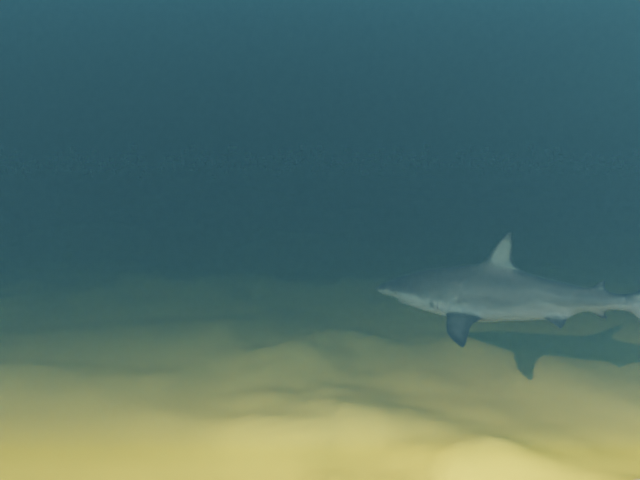Carribean Shark.001: (376, 232, 640, 347)
